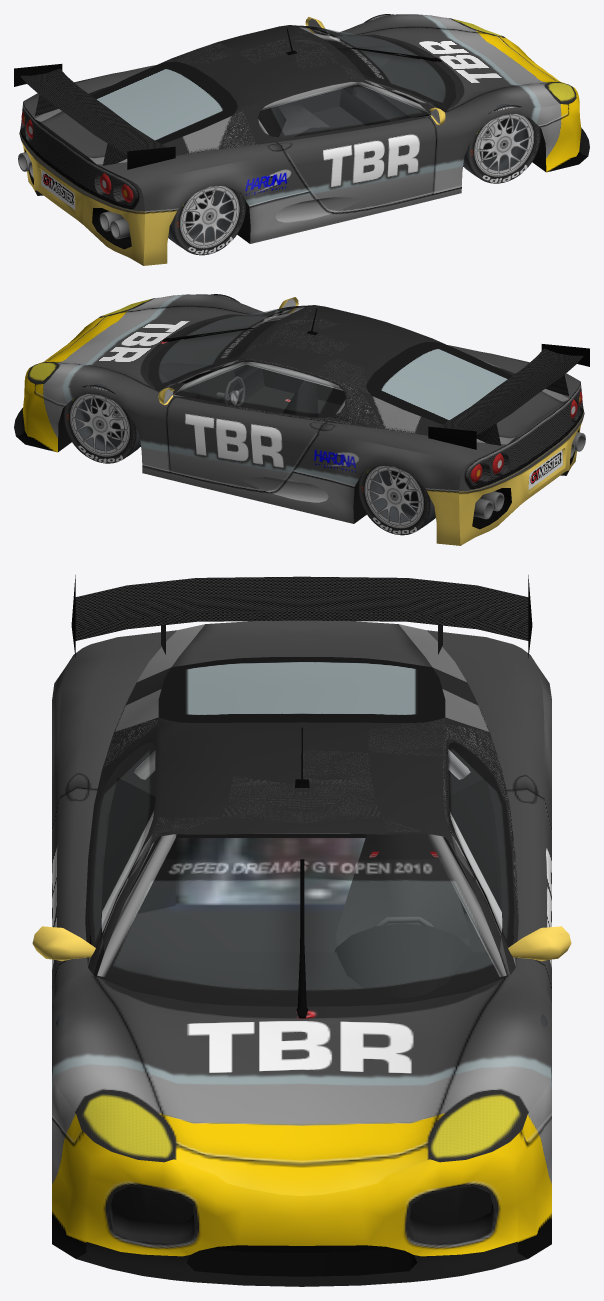
File: sd-trb1-cavallo-360rb.glb
3 views of the same model, one above another, from view 1: azimuth 30°, elevation 25°; view 2: azimuth 150°, elevation 25°; view 3: azimuth 270°, elevation 25° (orthographic). The views are drawn at different scales.
Visible parts, largest first — view 1: paint_3, detail_0, glass_1, Rim_FrontRight, Rim_RearRight, gt_cabin_SEATLEFT_s_2_2, Tire_RearRight, Tire_FrontRight; view 2: paint_3, detail_0, glass_1, Rim_FrontLeft, Rim_RearLeft, Tire_RearLeft, gt_cabin_SEATLEFT_s_2_2, Tire_FrontLeft; view 3: detail_0, paint_3, glass_1, gt_cabin_SEATLEFT_s_2_2.
Boxes of the visible parts, box(x1,y1,x2,y2) form: paint_3: box(19, 14, 589, 265); detail_0: box(14, 17, 576, 249); glass_1: box(258, 26, 455, 137); Rim_FrontRight: box(467, 105, 540, 183); Rim_RearRight: box(173, 185, 245, 255); gt_cabin_SEATLEFT_s_2_2: box(258, 104, 330, 137); Tire_RearRight: box(168, 190, 233, 247); Tire_FrontRight: box(463, 103, 528, 176); paint_3: box(14, 294, 584, 545); detail_0: box(27, 297, 589, 529); glass_1: box(148, 306, 345, 417); Rim_FrontLeft: box(63, 385, 136, 463); Rim_RearLeft: box(358, 465, 430, 535); Tire_RearLeft: box(370, 470, 435, 527); gt_cabin_SEATLEFT_s_2_2: box(283, 380, 318, 417); Tire_FrontLeft: box(76, 384, 140, 456); detail_0: box(32, 575, 571, 1276); paint_3: box(52, 620, 551, 1286); glass_1: box(89, 742, 514, 1006); gt_cabin_SEATLEFT_s_2_2: box(335, 834, 470, 946).
Bounding box in the file's own units: 4.52 × 1.26 × 2.1.
6 materials, 5 textured.
